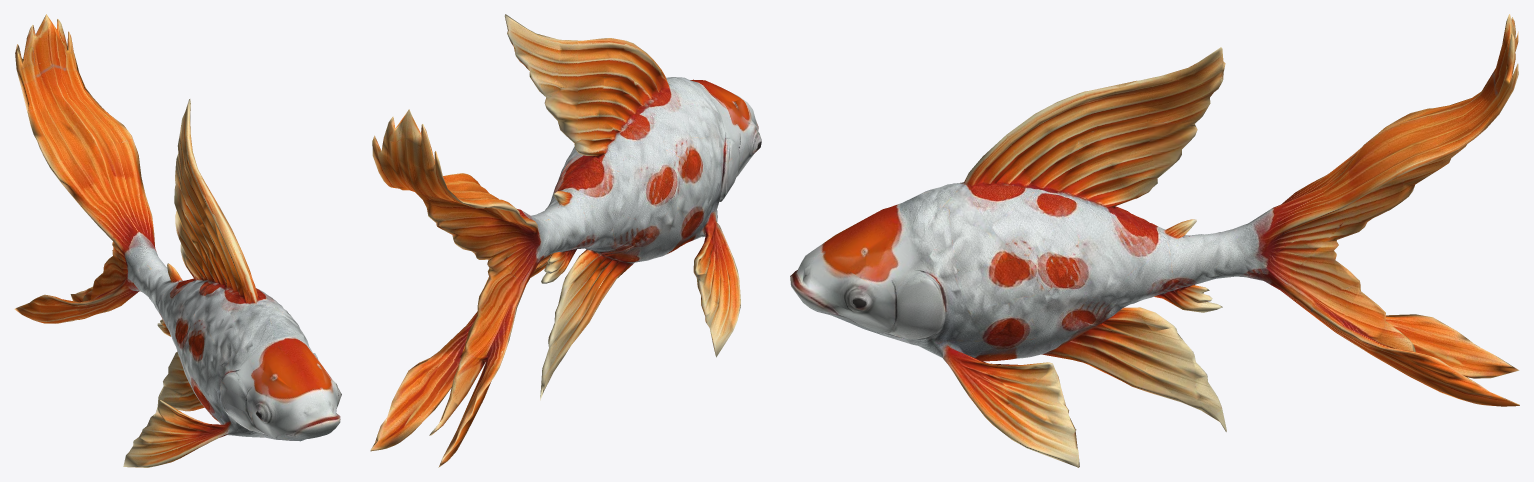
File: flying-koi.glb
3 views of the same model, side by side, from view 1: azimuth 30°, elevation 25°; view 2: azimuth 150°, elevation 25°; view 3: azimuth 270°, elevation 25° (orthographic). The views are drawn at different scales.
Size of the model in its own units: 0.6976 by 1.2 by 1.9.
1 material, 1 textured.
